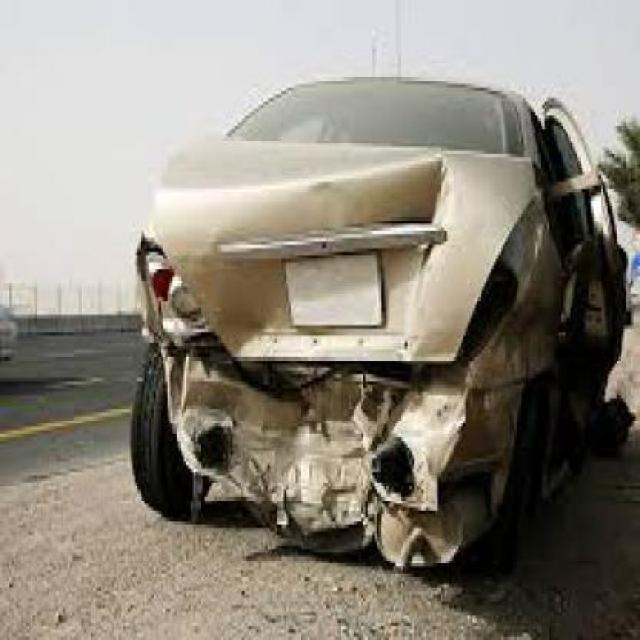damaged-front-bumper: (147, 359, 556, 536)
